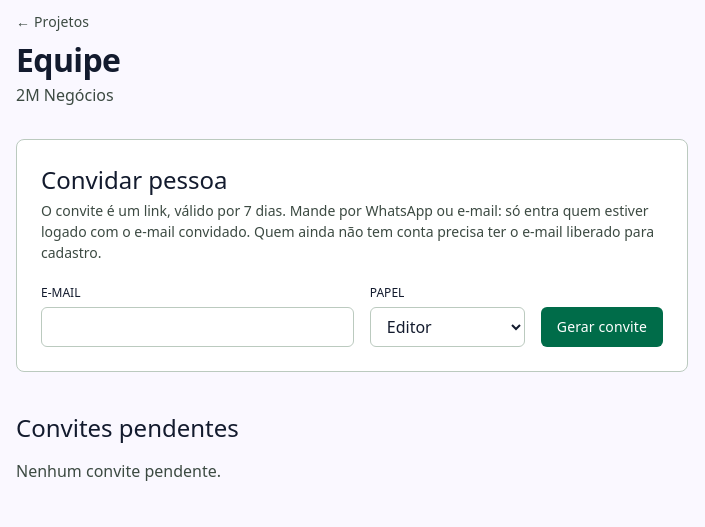
Test: recusa do servidor aparece na tela
This screenshot has width=705, height=527.
Type "djair@example.com" into the field labelled "E-mail".
click(197, 327); type("djair@example.com")  # box [41, 307, 354, 347]
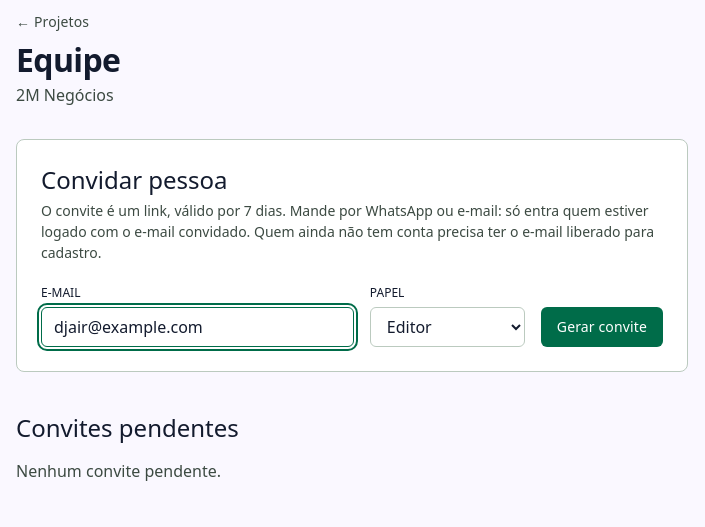
Click the button "Gerar convite".
click(602, 327)  # box [541, 307, 663, 347]
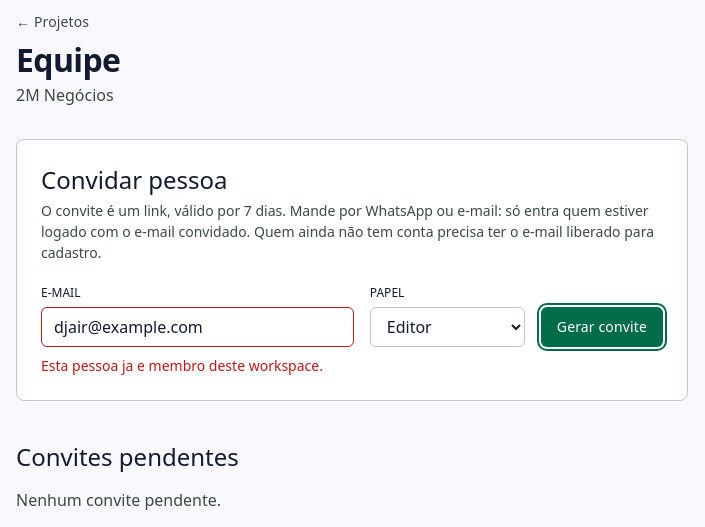
Expected: the text "Esta pessoa ja e membro deste workspace." is shown, [41, 355, 354, 376]
